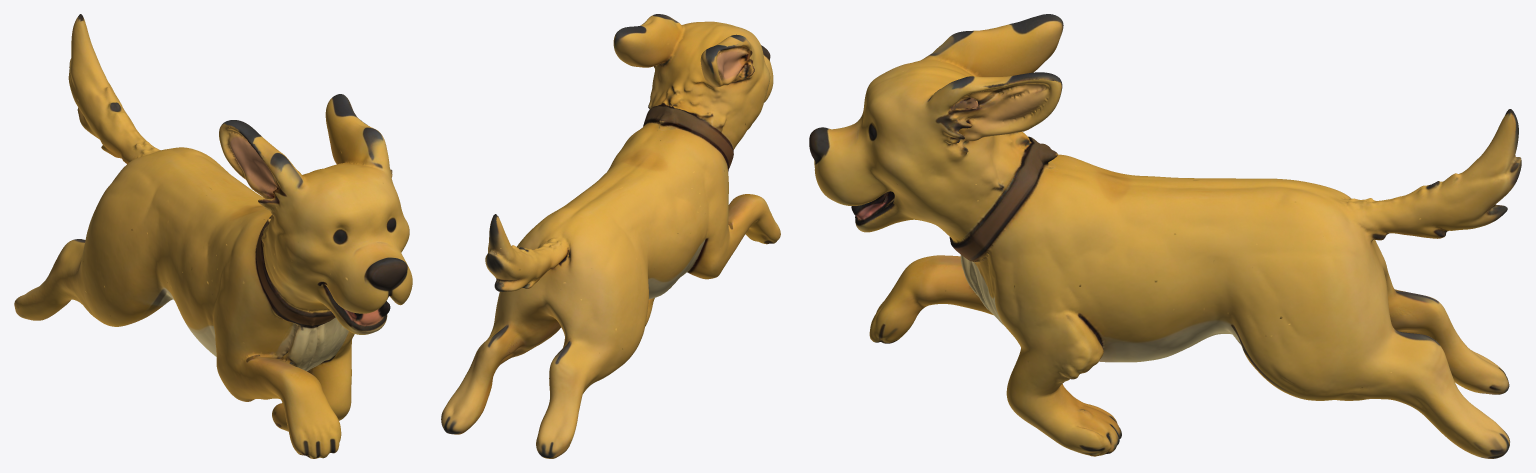
File: Meshy_AI_Dog_Run1_0616082924_texture.glb
The picture shows the model from 3 angles, left to right: view 1: azimuth 30°, elevation 25°; view 2: azimuth 150°, elevation 25°; view 3: azimuth 270°, elevation 25°; orthographic projection. The views are drawn at different scales.
Bounding box in the file's own units: 0.5505 × 1.19 × 2.
1 material, 1 textured.
